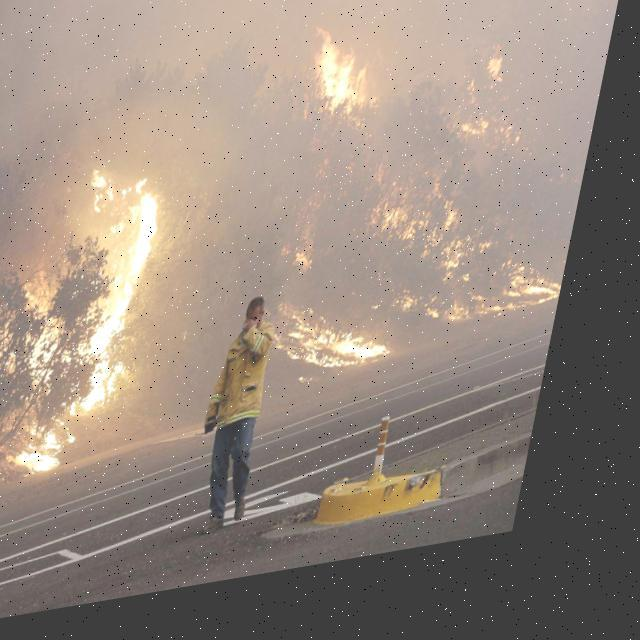Fire: (258, 9, 625, 400), (0, 161, 179, 488)
